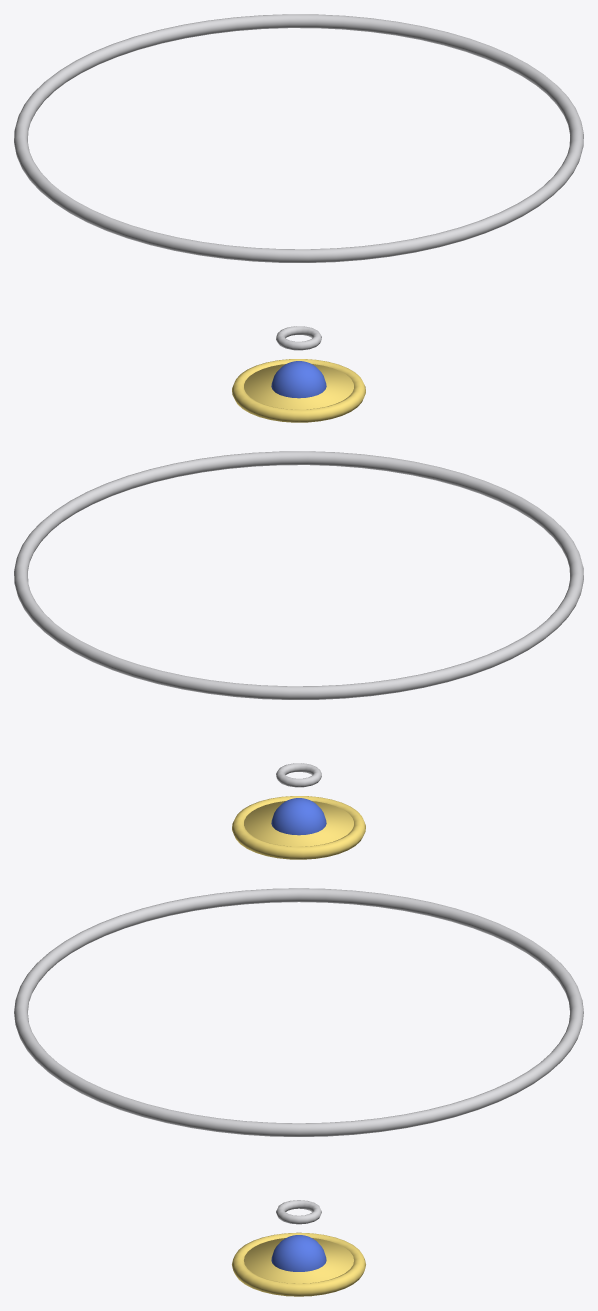
File: necklace.fbx
3 views of the same model, one above another, from view 1: azimuth 30°, elevation 25°; view 2: azimuth 150°, elevation 25°; view 3: azimuth 270°, elevation 25° (orthographic).
Parts seen in each view (by area): view 1: necklace; view 2: necklace; view 3: necklace.
Boxes of the visible parts, bbox=[...] form: necklace: bbox=[14, 14, 583, 422]; necklace: bbox=[14, 451, 583, 859]; necklace: bbox=[14, 888, 583, 1296].
Size of the model in its own units: 0.246 by 0.134 by 0.246.
